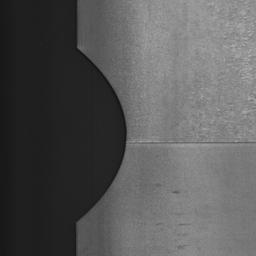Crescent gap: (80, 50, 127, 221)
